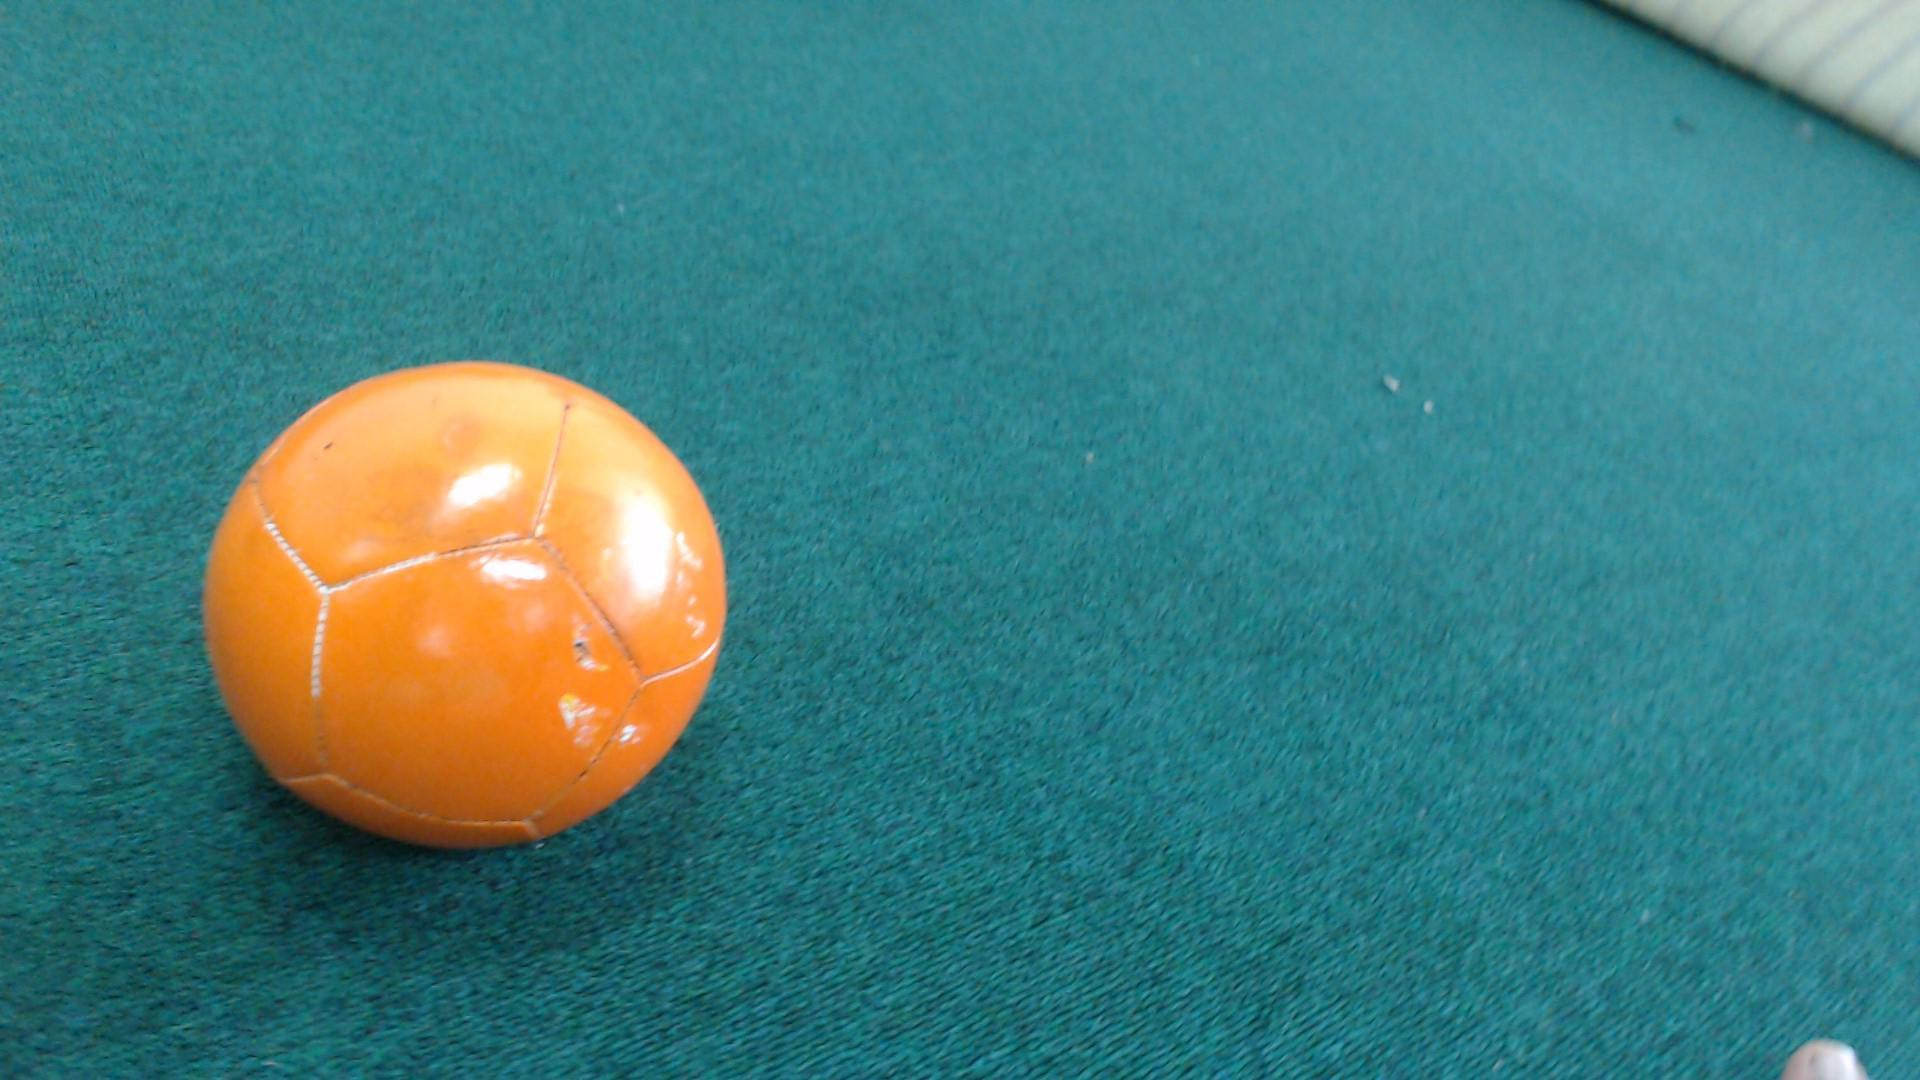bola: (181, 335, 764, 902)
